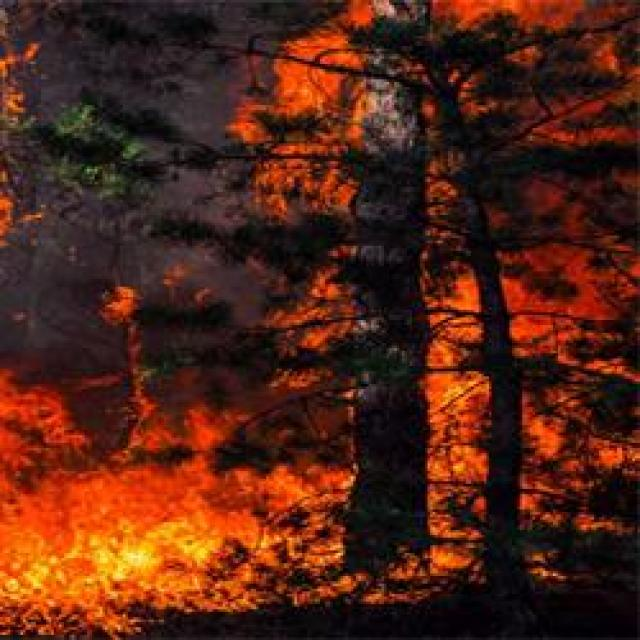fire: (3, 355, 634, 640), (248, 9, 640, 363)
